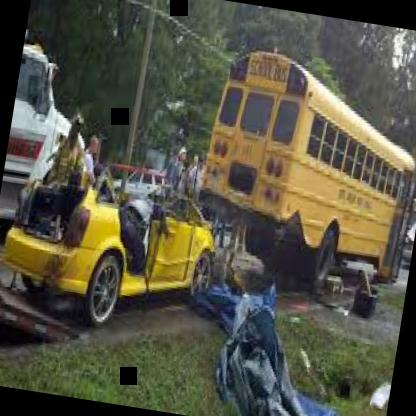accident: (10, 18, 416, 371)
